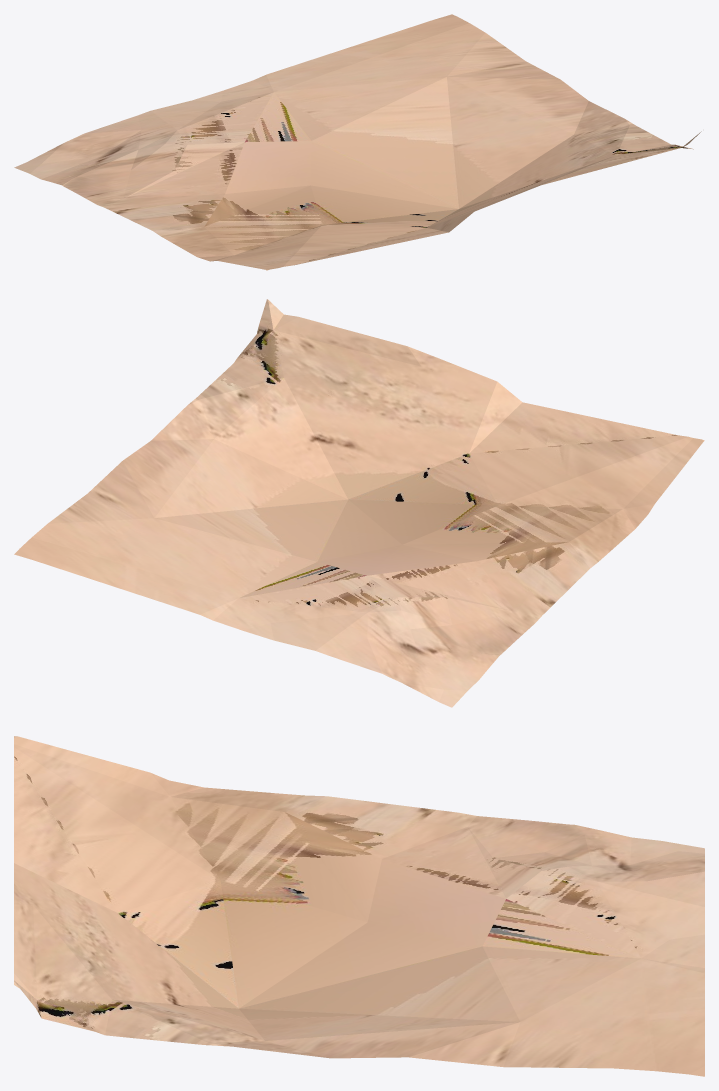
The picture shows the model from 3 angles, top to bottom: view 1: azimuth 30°, elevation 25°; view 2: azimuth 150°, elevation 25°; view 3: azimuth 270°, elevation 25°; orthographic projection. The views are drawn at different scales.
Bounding box in the file's own units: 1.04 × 0.2658 × 1.04.
Materials: 3 (3 with a texture image).
